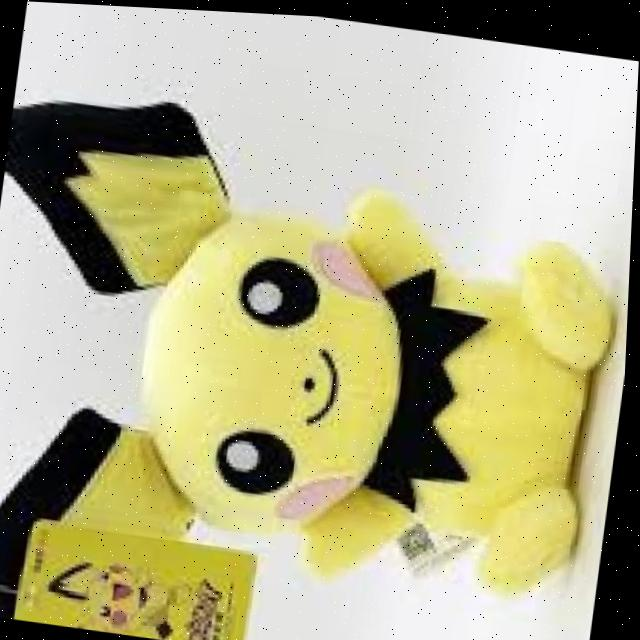pichu: (0, 85, 637, 640)
